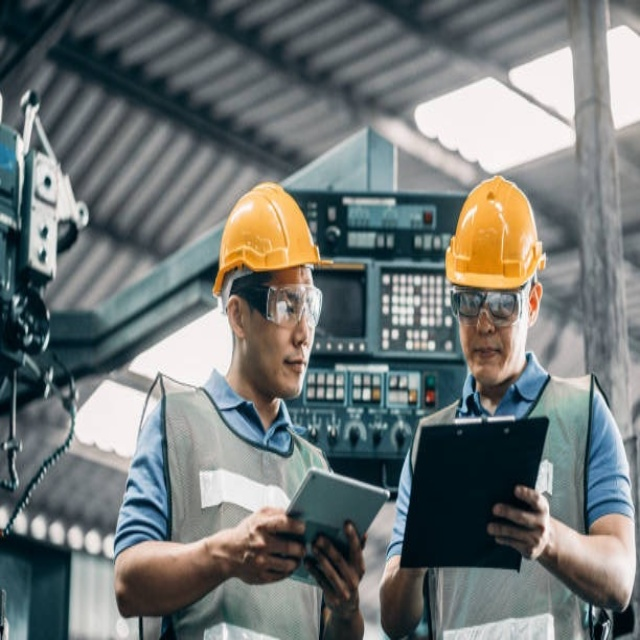Gafas: (232, 279, 321, 329), (447, 285, 527, 323)
Sin_guantes: (302, 518, 369, 613), (232, 506, 309, 586), (488, 483, 553, 564)
Sin_mascara: (465, 339, 507, 380), (275, 353, 310, 392)
